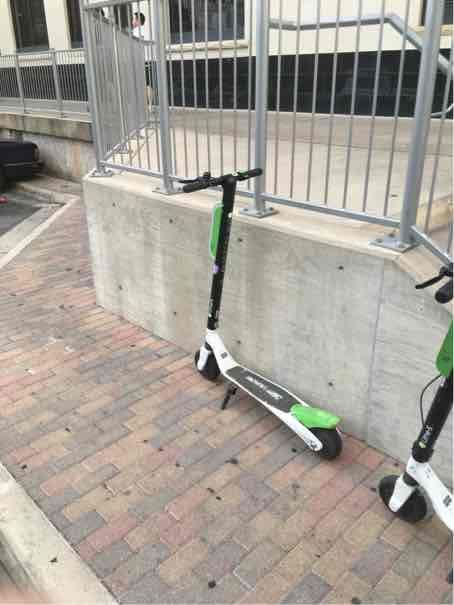scooter: (173, 158, 347, 466)
